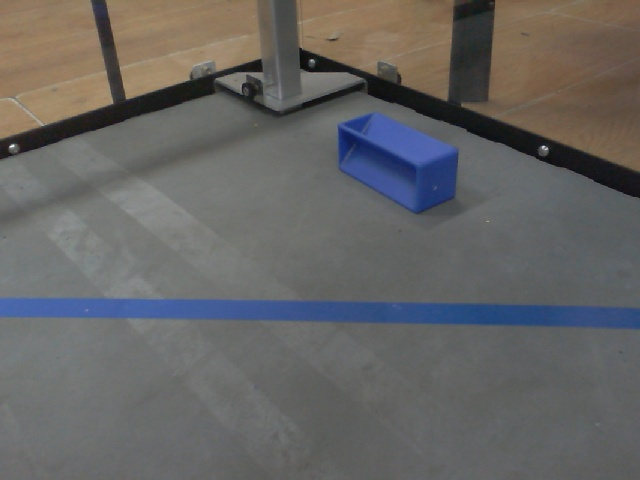BlueSample: (333, 111, 459, 217)
